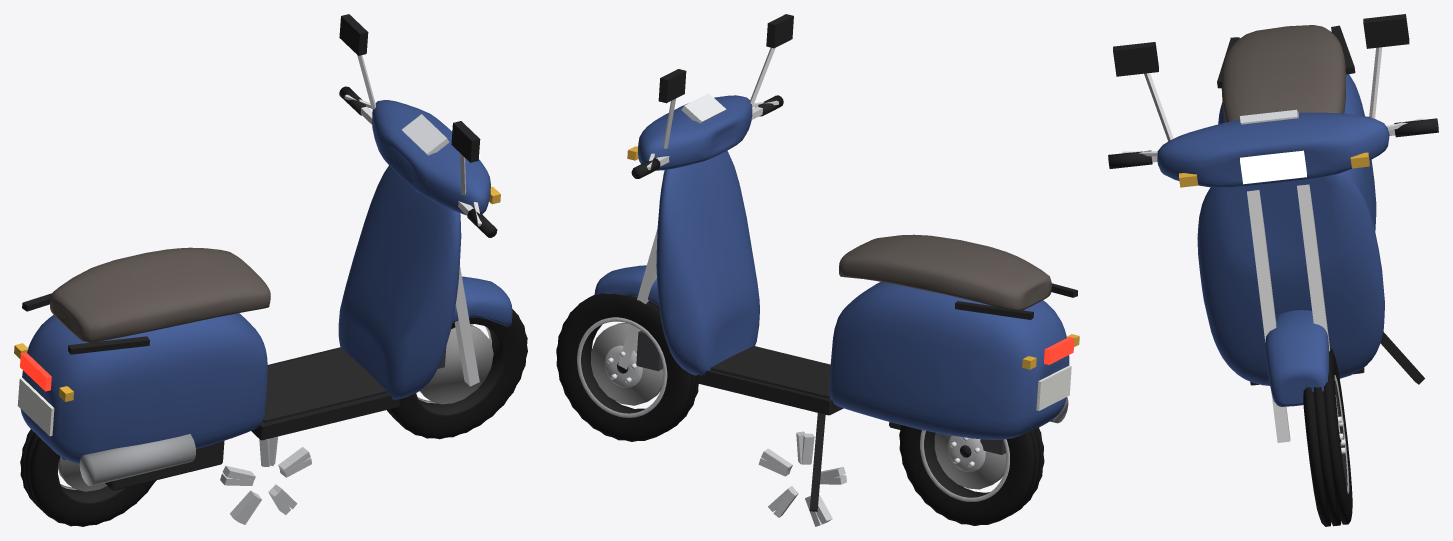
Rendered from bike_scooter_2.glb.
The picture shows the model from 3 angles, left to right: view 1: azimuth 30°, elevation 25°; view 2: azimuth 150°, elevation 25°; view 3: azimuth 270°, elevation 25°; orthographic projection. The views are drawn at different scales.
Visible parts, largest first — view 1: bike_scooter_2; view 2: bike_scooter_2; view 3: bike_scooter_2.
Boxes of the visible parts, bbox=[...] form: bike_scooter_2: bbox=[14, 14, 527, 526]; bike_scooter_2: bbox=[556, 14, 1079, 526]; bike_scooter_2: bbox=[1108, 14, 1438, 526].
Size of the model in its own units: 1.81 by 1.56 by 0.918.
